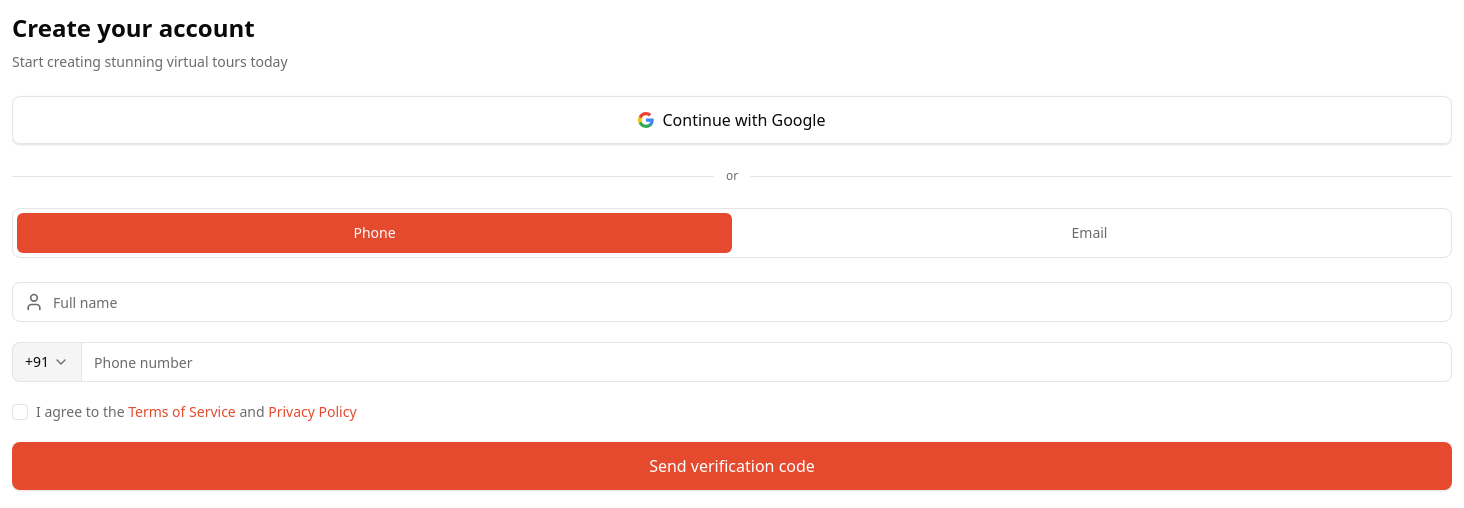
Scenario: RegisterPage identifier gate › continues the happy path for a genuinely new identifier
The width and height of the screenshot is (1464, 508).
Click the tab "Email" at {"x": 1090, "y": 233}, box [732,213,1447,253]
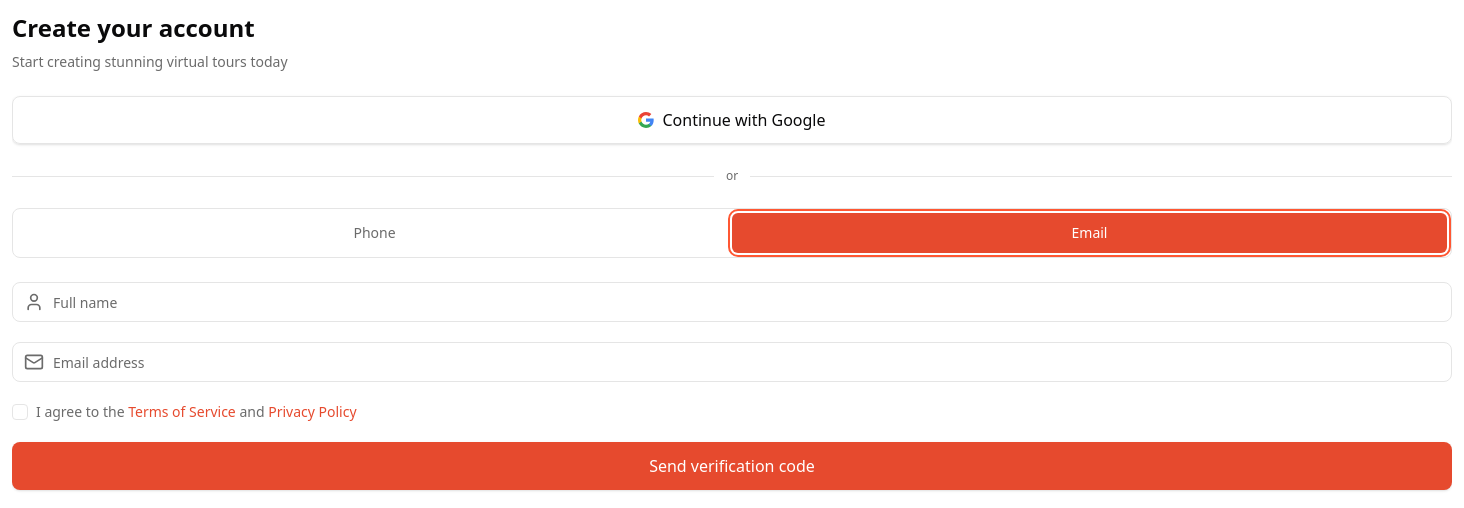
Type "Jane Doe" into the field labelled "Full name" at {"x": 732, "y": 302}, box [12,282,1452,322]
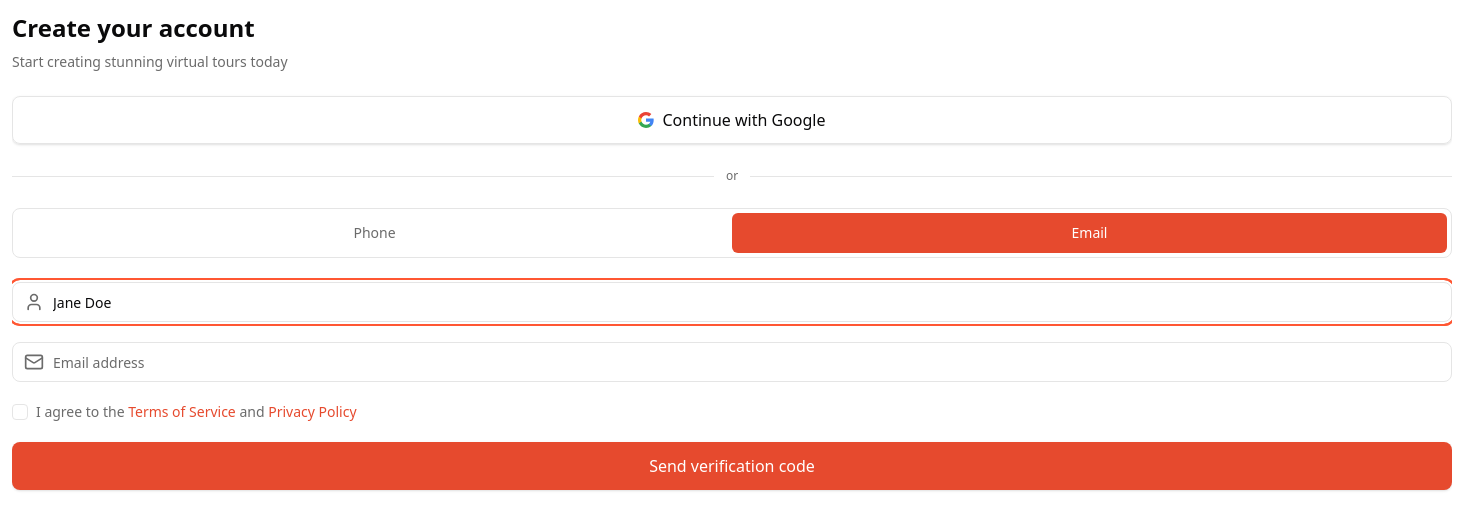
Type "new@example.com" into the field labelled "Email address" at {"x": 732, "y": 362}, box [12,342,1452,382]
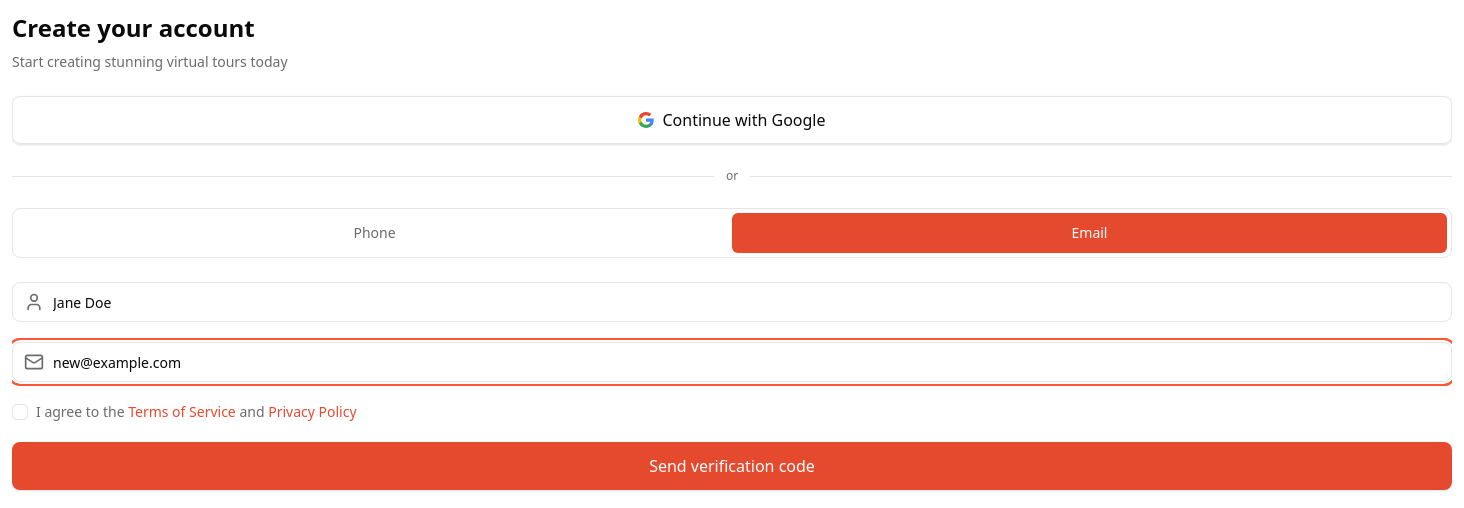
Click the checkbox at {"x": 20, "y": 412}, box [12,404,28,420]
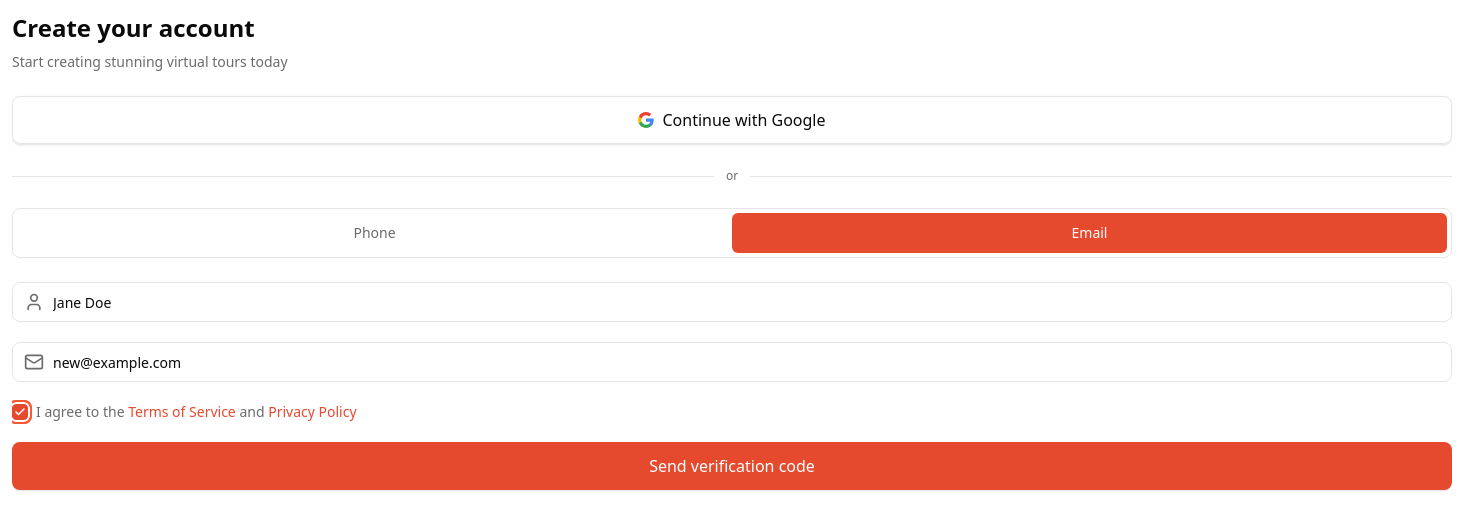
Click the button "Send verification code" at {"x": 732, "y": 466}, box [12,442,1452,490]
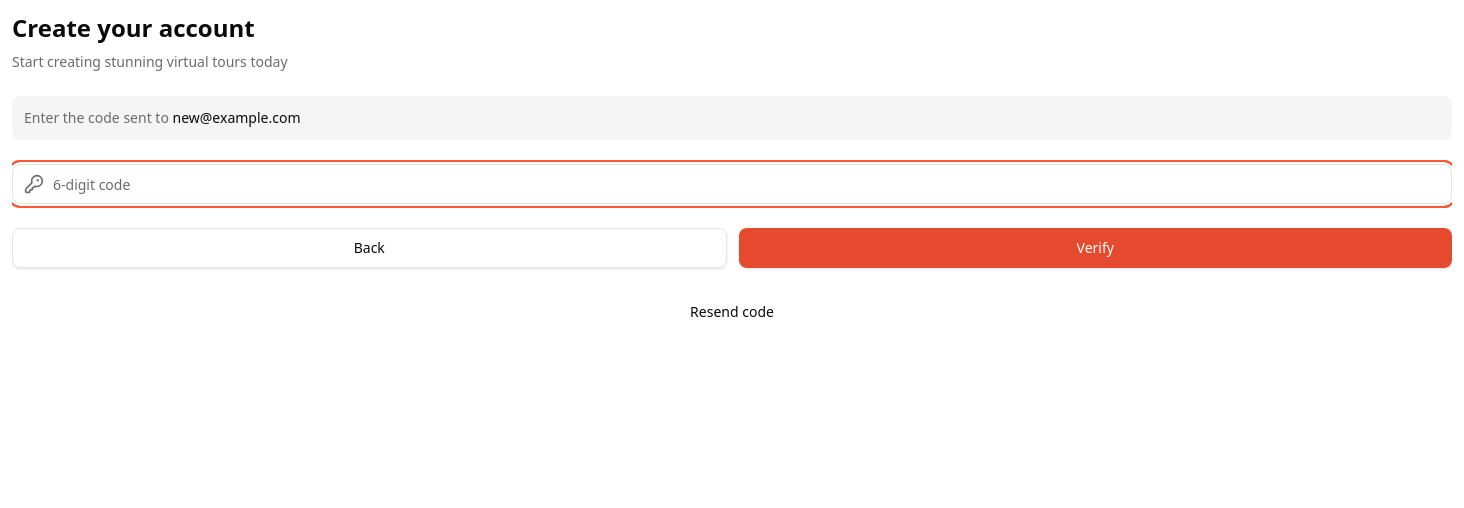
Expected: the text "Enter the code sent to new@example.com" is shown, [12,96,1452,140]
